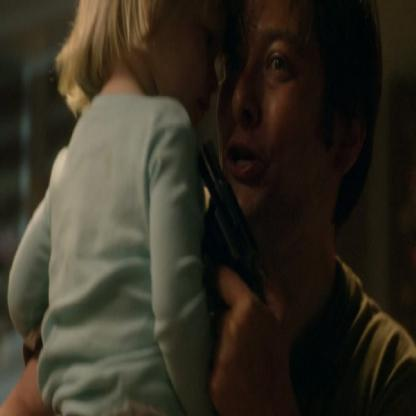Gun: (195, 134, 266, 379)
